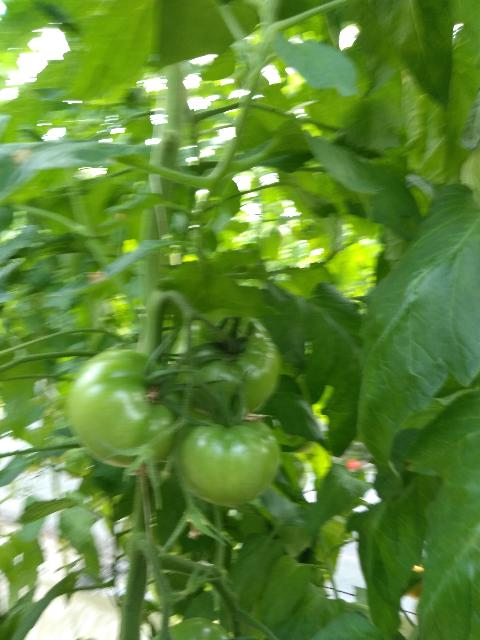b_green: (69, 349, 185, 467), (168, 308, 281, 417), (177, 419, 280, 507)
